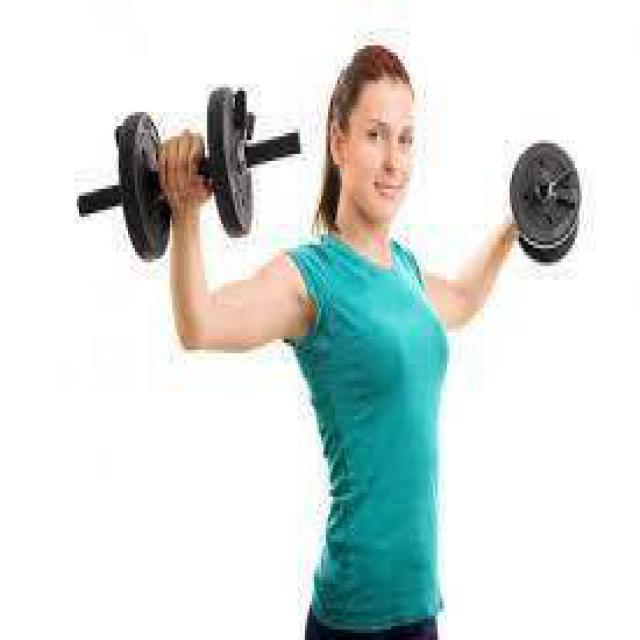Gym Weights: (65, 74, 307, 276), (493, 133, 589, 276)
